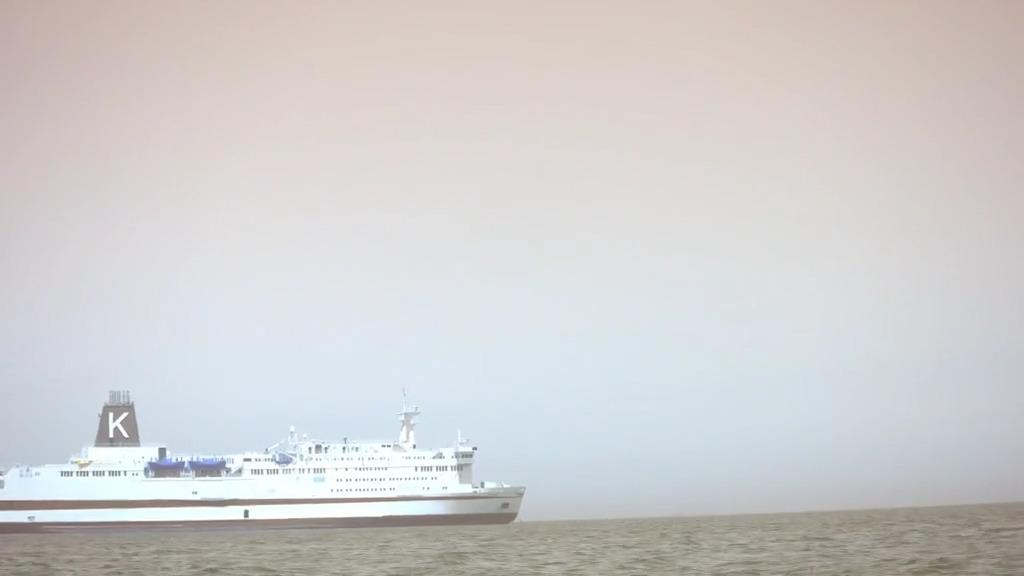PassengerShip: (0, 389, 538, 540)
